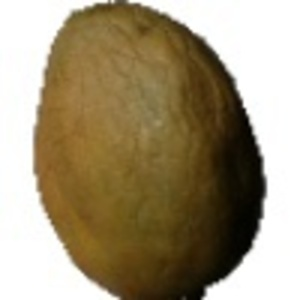mamão: (24, 5, 269, 295)
